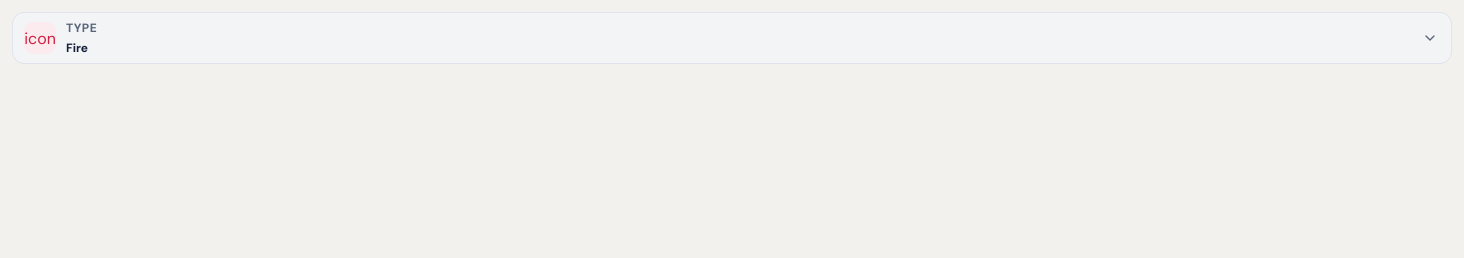
it: SelectMenu › supports keyboard navigation and returns focus after selection
The image size is (1464, 258).
Press ArrowDown in the dropdown labelled "Type", box [12,12,1452,64]
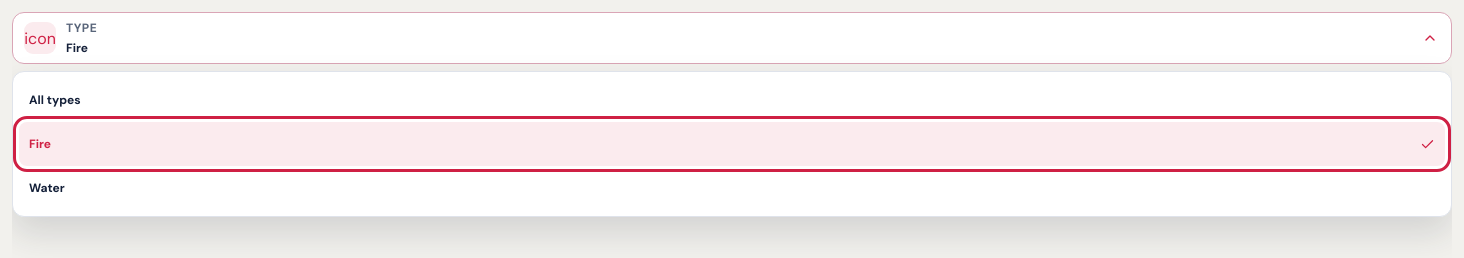
Now the dropdown labelled "Type" is expanded, box [12,12,1452,64]
Now the options read "All types", "Fire", "Water", in this order, box [19,78,1445,122]; [19,122,1445,166]; [19,166,1445,210]
Press End in the list, box [12,71,1452,217]
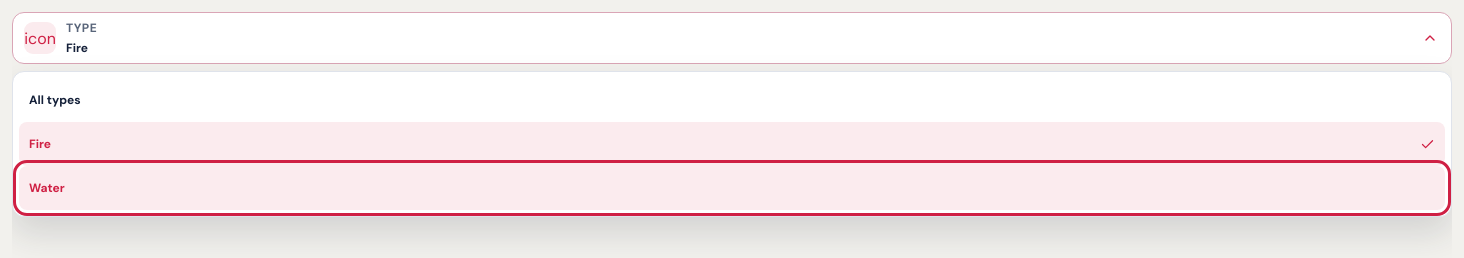
Press ArrowDown in the list, box [12,71,1452,217]
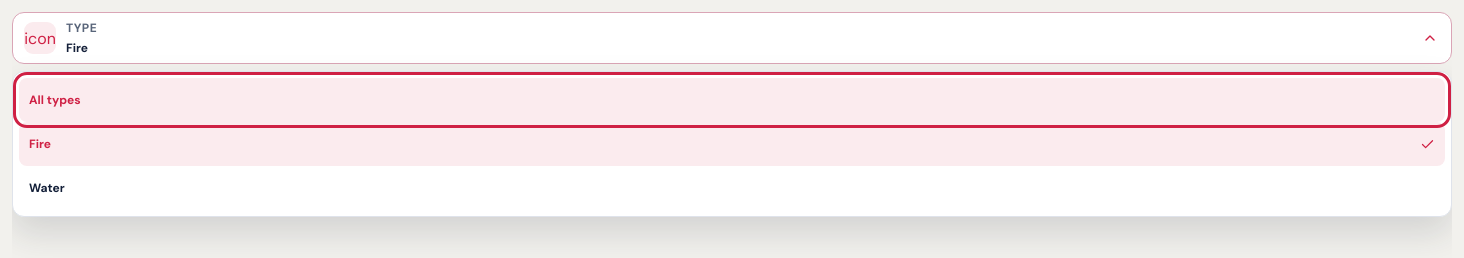
Click the option "Water".
click(47, 188)  # box [19,166,1445,210]
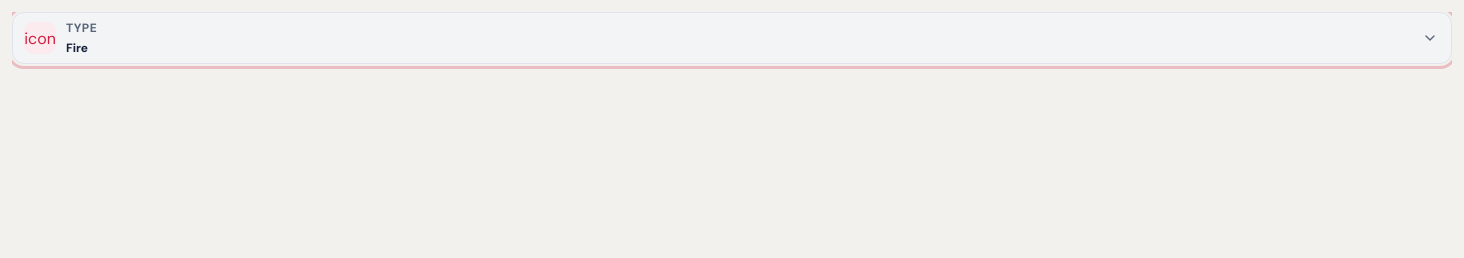
Now the list is gone
